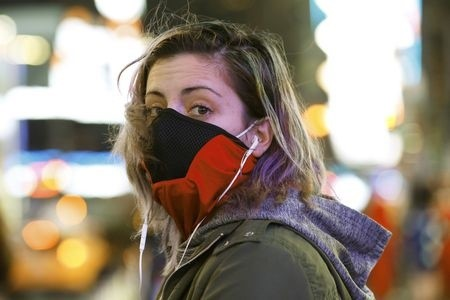face_with_mask: (131, 25, 276, 217)
